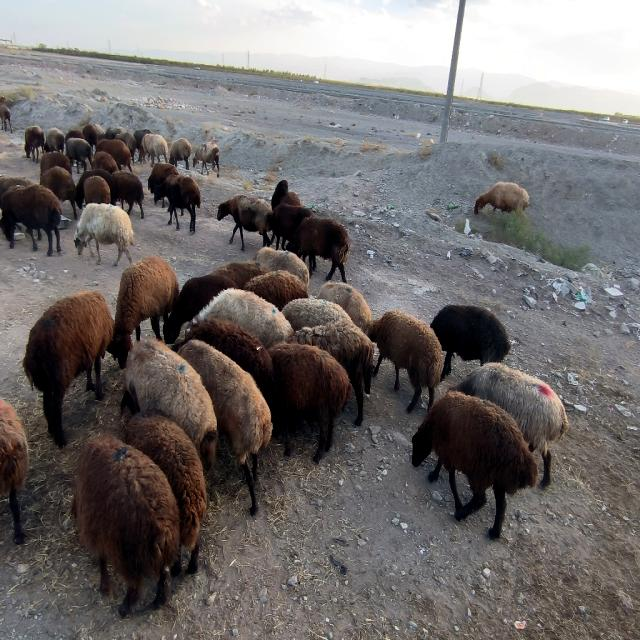sheep: (72, 435, 180, 617), (411, 392, 538, 538), (179, 342, 272, 514), (452, 363, 569, 488), (22, 292, 114, 447), (126, 415, 206, 573), (125, 338, 218, 468), (269, 343, 351, 462), (291, 322, 374, 424), (108, 255, 179, 368), (186, 318, 274, 408), (366, 310, 442, 412), (192, 288, 294, 348), (274, 203, 350, 281), (430, 305, 510, 379), (164, 273, 236, 342), (0, 185, 61, 256), (0, 398, 29, 543), (288, 218, 350, 281), (74, 203, 134, 264), (218, 195, 274, 251), (154, 175, 201, 232), (244, 270, 308, 311), (318, 282, 371, 331), (282, 298, 354, 332), (252, 247, 310, 288), (41, 167, 78, 219), (474, 182, 529, 214), (76, 168, 116, 208), (113, 170, 144, 218), (214, 262, 268, 289), (97, 138, 131, 171), (192, 142, 220, 176), (141, 133, 169, 166), (65, 138, 92, 172), (271, 180, 302, 209), (148, 163, 178, 192), (84, 175, 111, 204), (25, 125, 45, 162), (40, 152, 71, 175), (169, 138, 191, 169), (115, 132, 136, 161), (82, 125, 105, 148), (94, 152, 119, 172), (45, 128, 65, 151), (134, 128, 151, 151), (0, 102, 12, 132), (105, 127, 125, 139), (65, 130, 85, 141)
